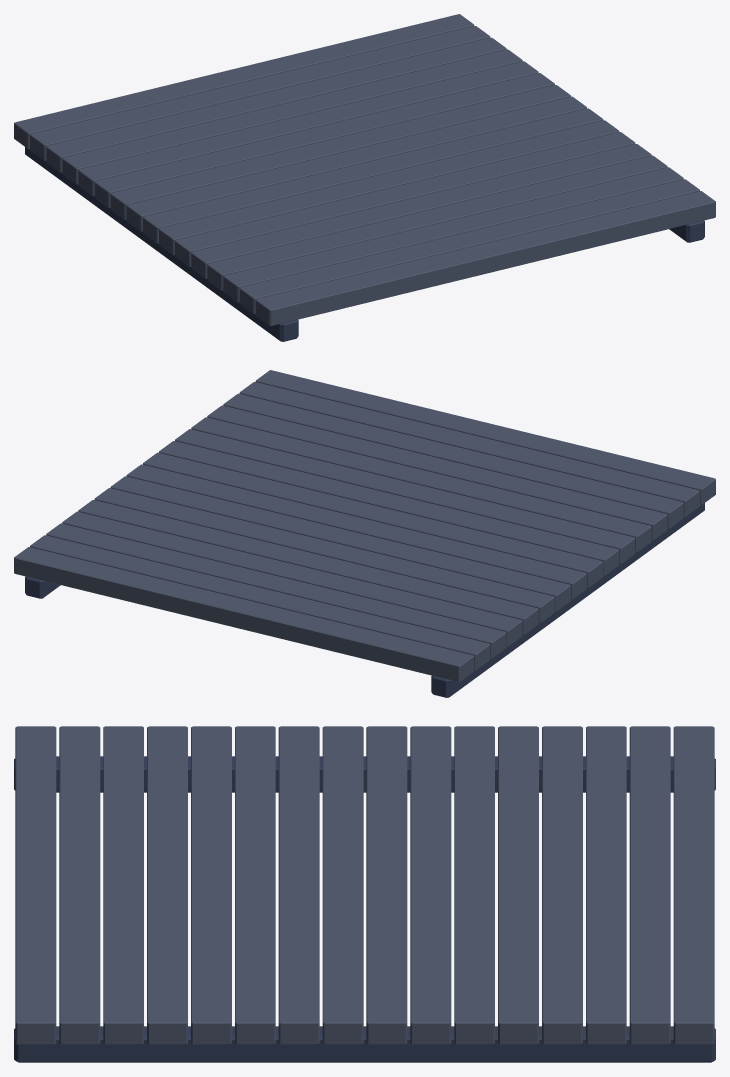
The model's file is bridge-wide.glb.
3 views of the same model, one above another, from view 1: azimuth 30°, elevation 25°; view 2: azimuth 150°, elevation 25°; view 3: azimuth 270°, elevation 25° (orthographic). The views are drawn at different scales.
Visible parts, largest first — view 1: bridge-wide__body; view 2: bridge-wide__body; view 3: bridge-wide__body.
Boxes of the visible parts, x1,y1,x2,y2 form: bridge-wide__body: (14,14,715,341); bridge-wide__body: (14,370,715,697); bridge-wide__body: (14,726,715,1062).
Size of the model in its own units: 4 by 0.3 by 4.
